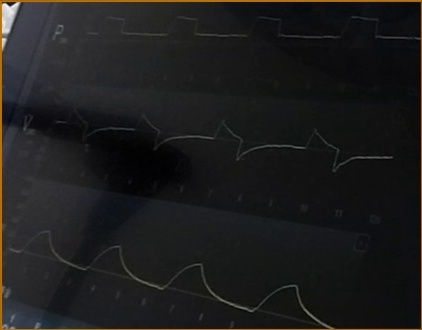Normal Flow: (54, 100, 399, 178)
Normal Volume: (10, 225, 335, 326)
